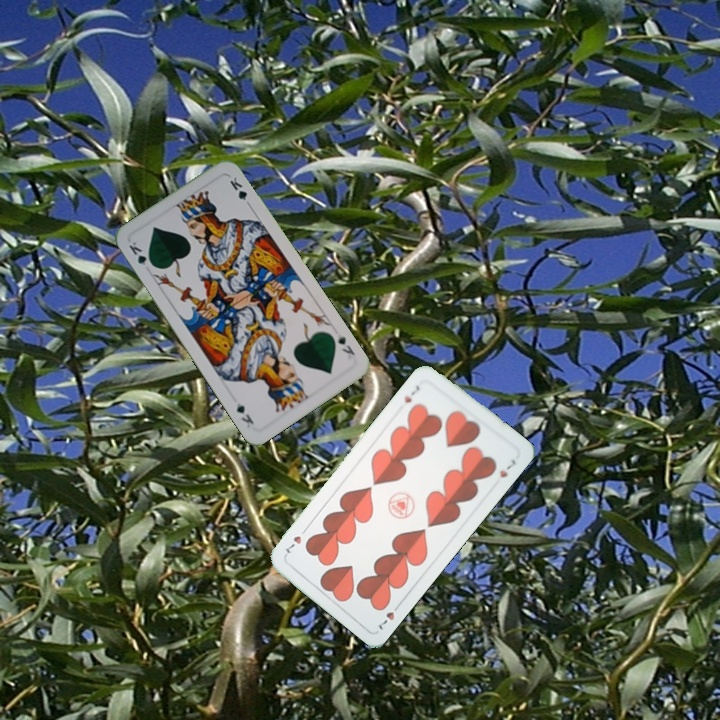GK: (124, 237, 157, 271), (333, 330, 357, 361)
H7: (374, 599, 403, 633), (400, 381, 423, 406)
